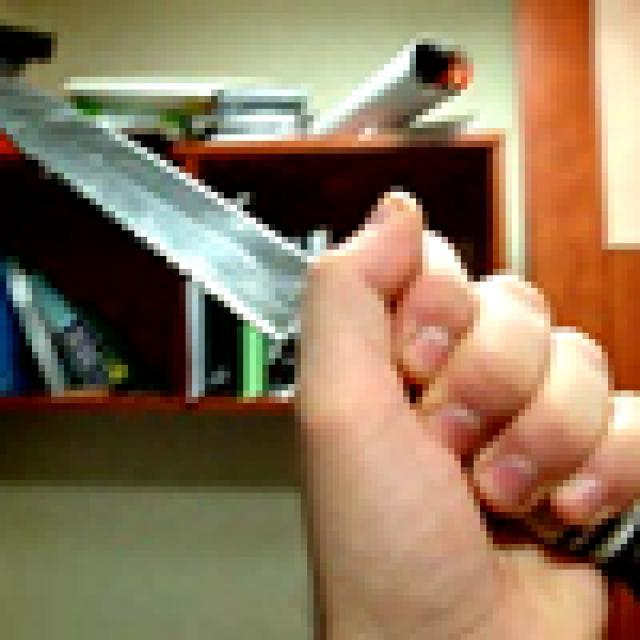knife: (6, 64, 640, 595)
